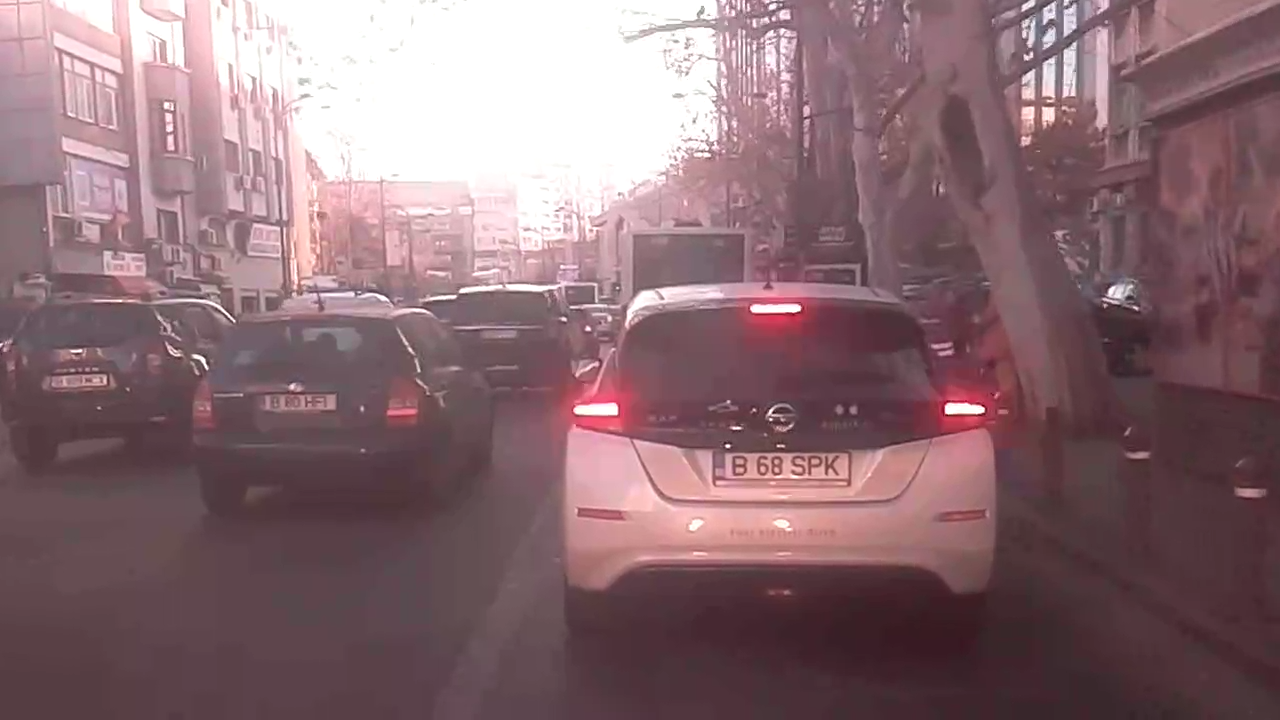license-plate: (708, 442, 855, 487), (255, 388, 342, 415)
